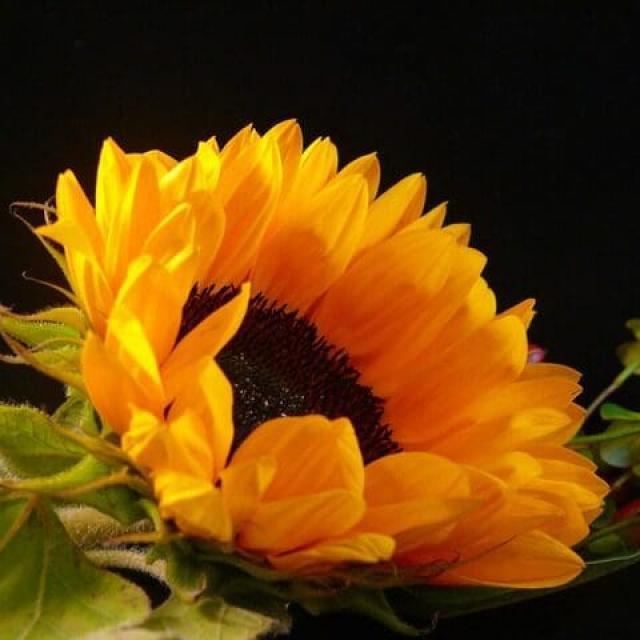sunflower: (1, 116, 612, 589)
